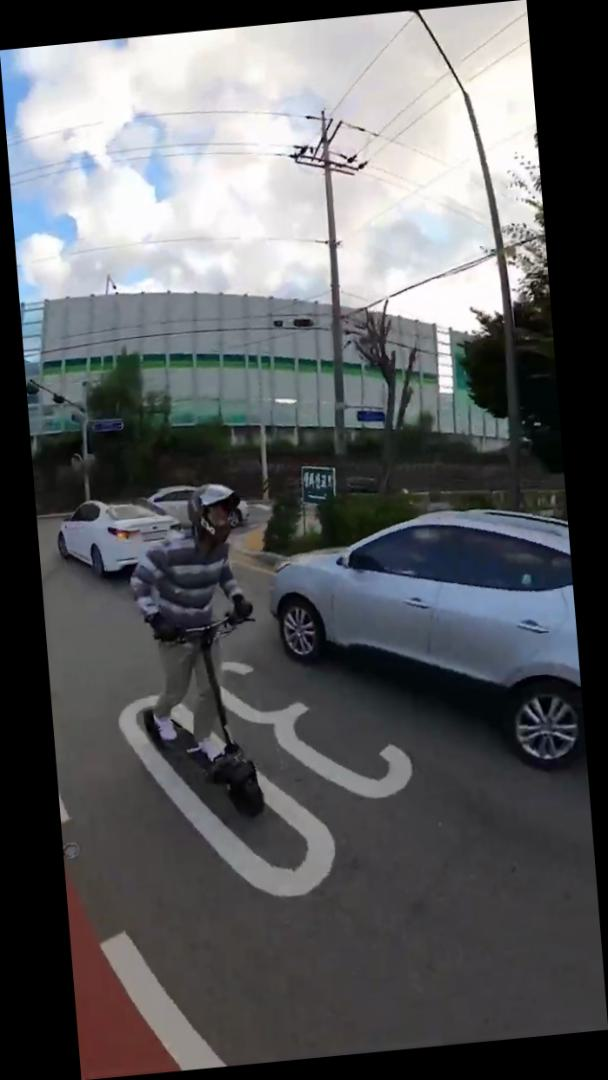helmet: (121, 479, 280, 828)
